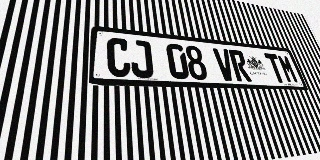0: (165, 43, 190, 79)
8: (184, 45, 208, 80)
C: (107, 37, 131, 77)
J: (130, 39, 154, 78)
M: (276, 54, 300, 83)
R: (228, 49, 252, 82)
T: (264, 53, 287, 83)
V: (212, 48, 237, 81)
